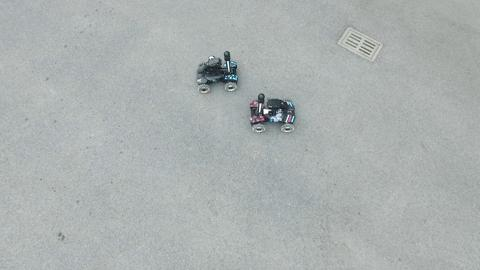chariot: (192, 47, 242, 96), (248, 91, 301, 136)
